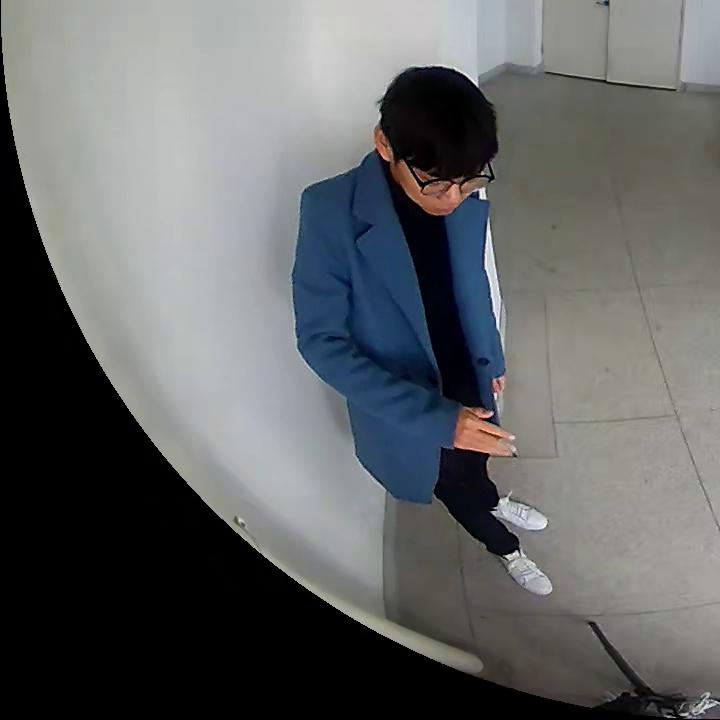handsmoke: (454, 404, 522, 460)
handwithoutsmoke: (482, 369, 511, 396)
mouthwithoutsmoke: (375, 67, 493, 216)
